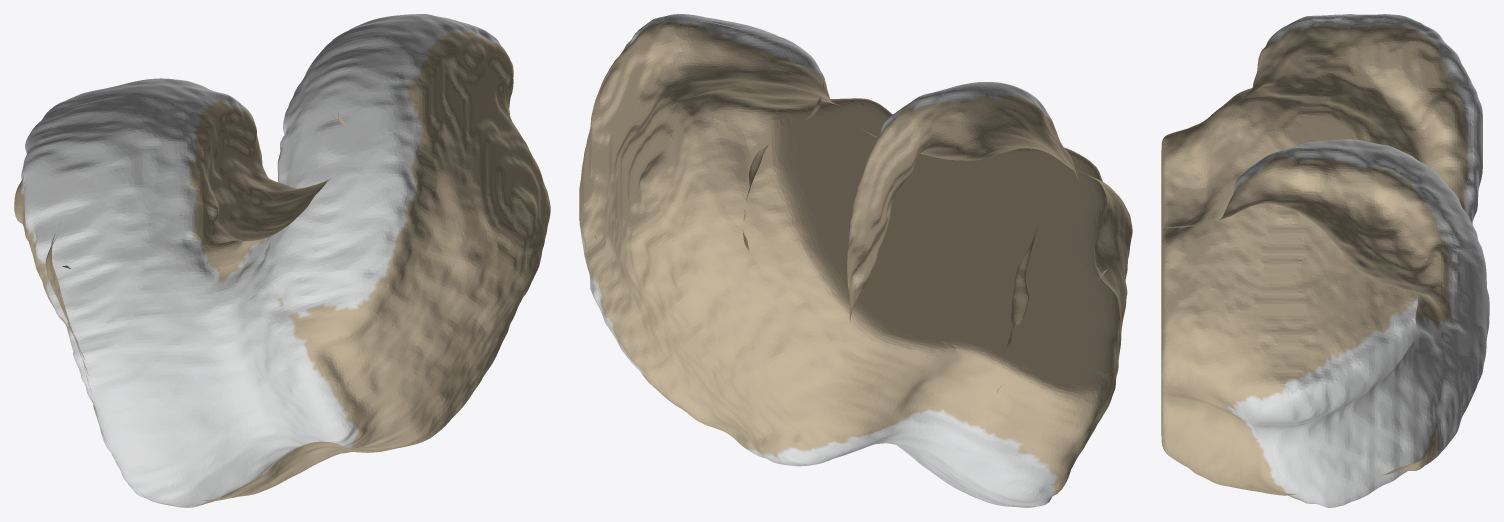
Rendered from femur.glb.
3 views of the same model, side by side, from view 1: azimuth 30°, elevation 25°; view 2: azimuth 150°, elevation 25°; view 3: azimuth 270°, elevation 25° (orthographic). The views are drawn at different scales.
Visible parts, largest first — view 1: geometry_0; view 2: geometry_0; view 3: geometry_0.
Part boxes in pixels (<box>): geometry_0: <box>14,14,550,507</box>; geometry_0: <box>579,14,1132,507</box>; geometry_0: <box>1161,14,1489,507</box>.
Bounding box in the file's own units: 89.02 × 74.33 × 55.88.
